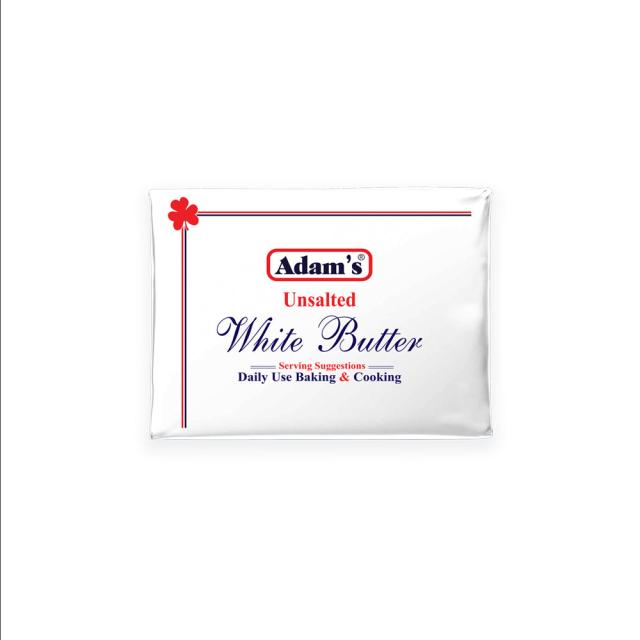butter: (148, 186, 493, 440)
